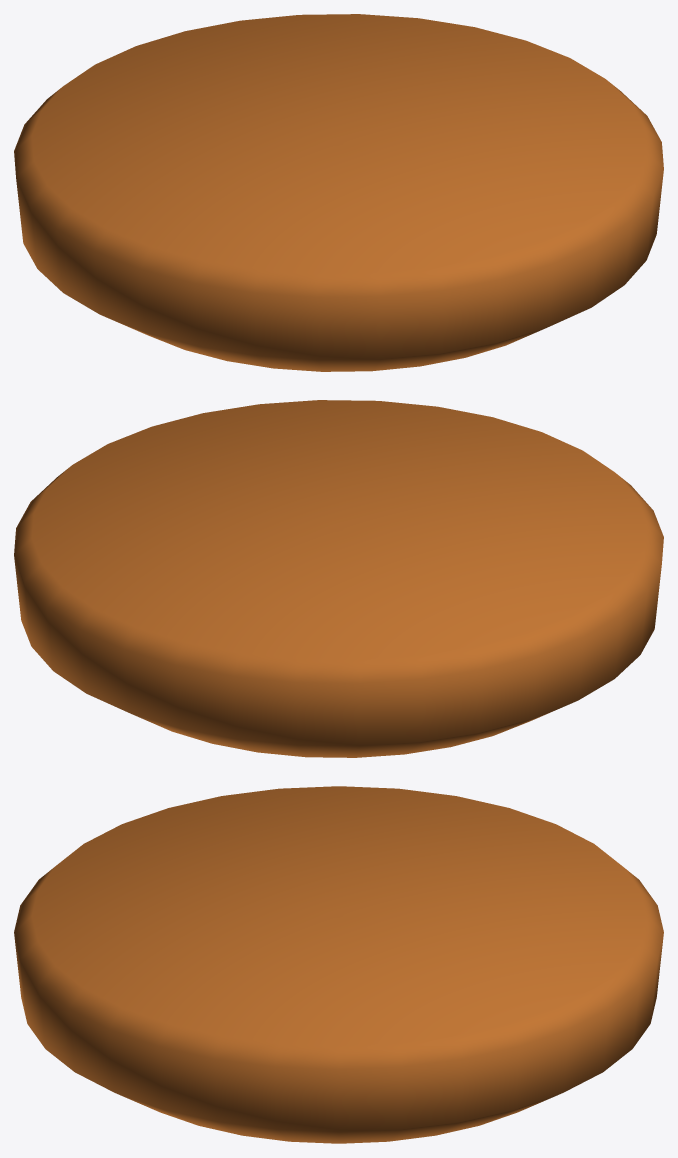
Rendered from burger-bun-bottom.glb.
3 views of the same model, one above another, from view 1: azimuth 30°, elevation 25°; view 2: azimuth 150°, elevation 25°; view 3: azimuth 270°, elevation 25° (orthographic).
Parts seen in each view (by area): view 1: edible_bun_bottom; view 2: edible_bun_bottom; view 3: edible_bun_bottom.
Boxes of the visible parts, bbox=[...] form: edible_bun_bottom: bbox=[14, 14, 663, 371]; edible_bun_bottom: bbox=[14, 400, 663, 757]; edible_bun_bottom: bbox=[14, 786, 663, 1143].
Bounding box in the file's own units: 0.18 × 0.037 × 0.18.
